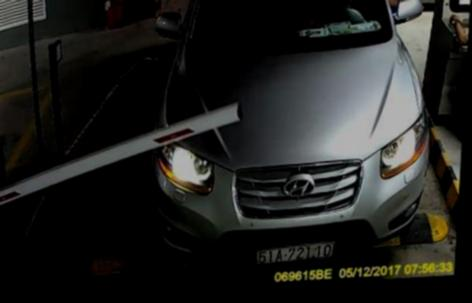License_Plate: (248, 238, 343, 267)
